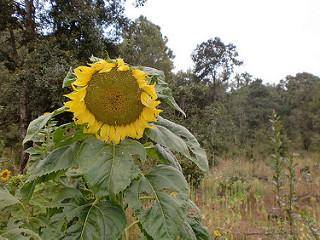sunflower: (67, 61, 160, 144)
